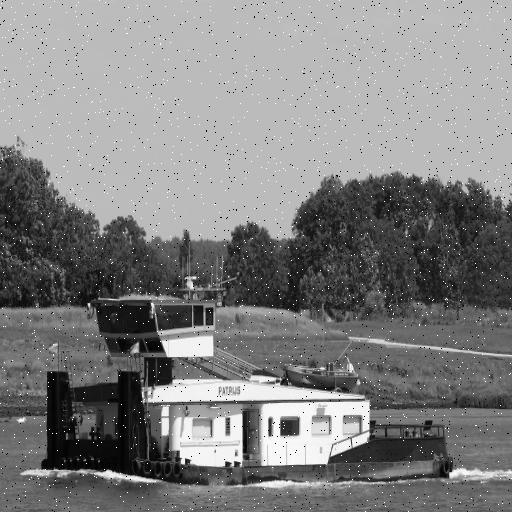tugboat: (44, 271, 456, 492)
